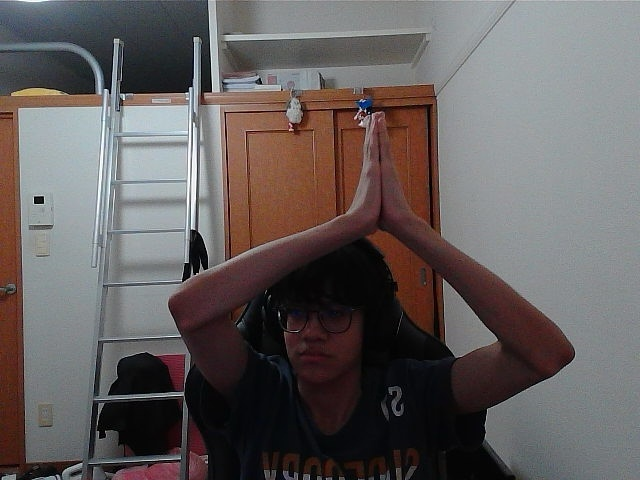pray: (368, 148, 379, 220)
